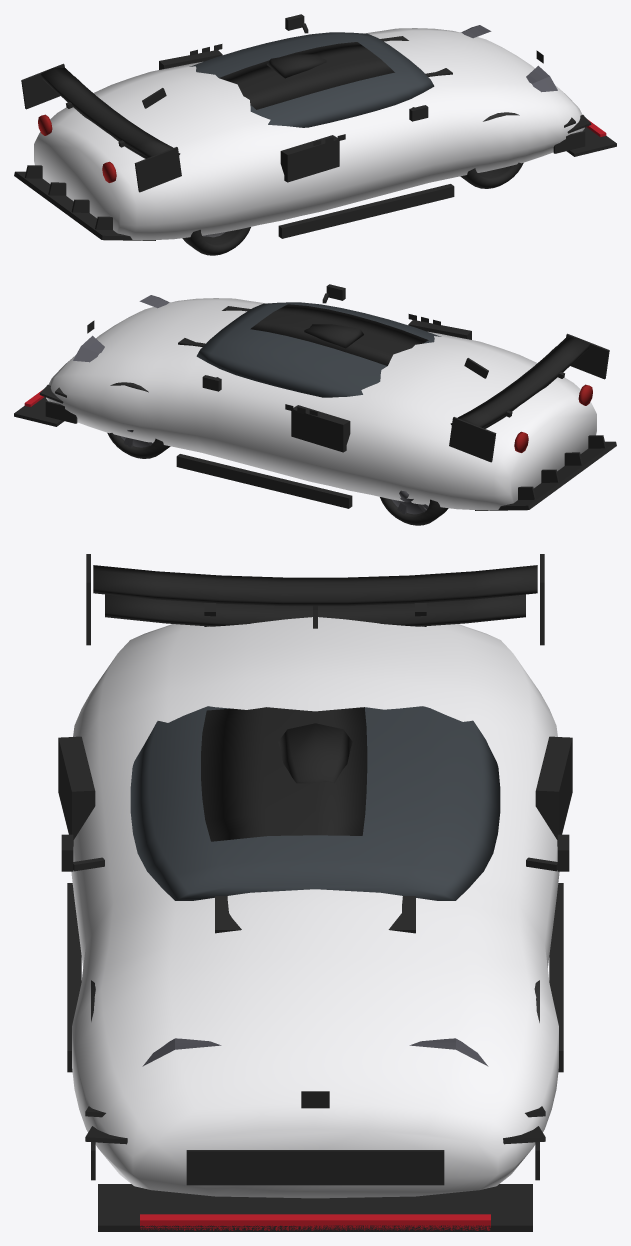
Rendered from ksg.glb.
3 views of the same model, one above another, from view 1: azimuth 30°, elevation 25°; view 2: azimuth 150°, elevation 25°; view 3: azimuth 270°, elevation 25° (orthographic). The views are drawn at different scales.
Parts seen in each view (by area): view 1: Koenigsegg_One1; view 2: Koenigsegg_One1; view 3: Koenigsegg_One1.
Boxes of the visible parts, <box> form: Koenigsegg_One1: <box>14,14,616,255</box>; Koenigsegg_One1: <box>14,284,616,525</box>; Koenigsegg_One1: <box>58,554,572,1231</box>.
Size of the model in its own units: 4.98 by 1.24 by 2.2.
